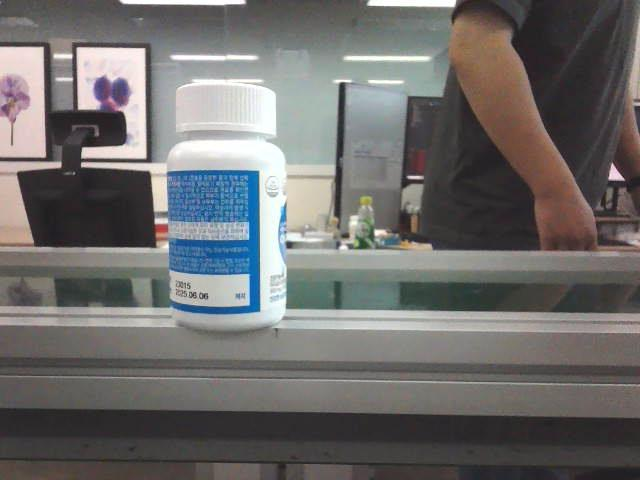labeled: (163, 77, 293, 338)
